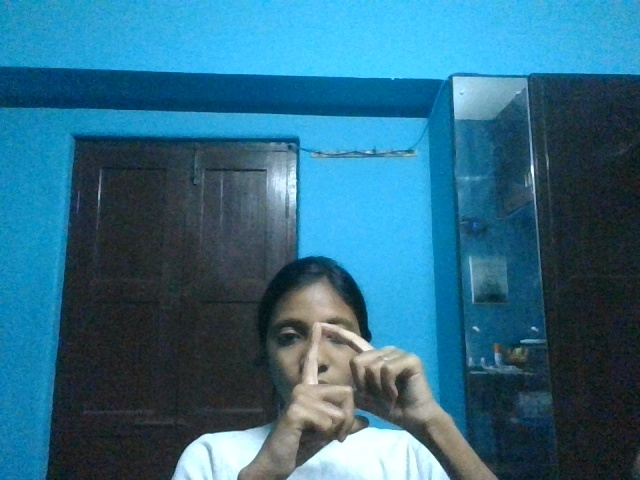D: (261, 317, 436, 471)
